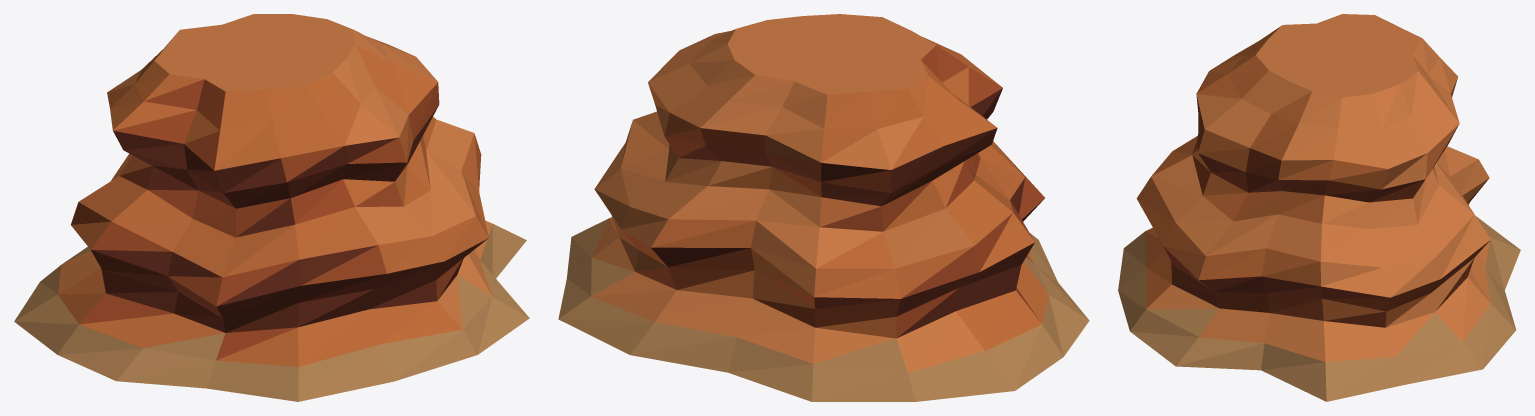
Rendered from rockC.glb.
The picture shows the model from 3 angles, left to right: view 1: azimuth 30°, elevation 25°; view 2: azimuth 150°, elevation 25°; view 3: azimuth 270°, elevation 25°; orthographic projection. The views are drawn at different scales.
Parts seen in each view (by area): view 1: RedRockKitC; view 2: RedRockKitC; view 3: RedRockKitC.
Boxes of the visible parts, x1,y1,x2,y2 form: RedRockKitC: (14, 14, 529, 401); RedRockKitC: (558, 14, 1089, 401); RedRockKitC: (1118, 14, 1520, 401).
Size of the model in its own units: 6.82 by 3.4 by 5.42.
